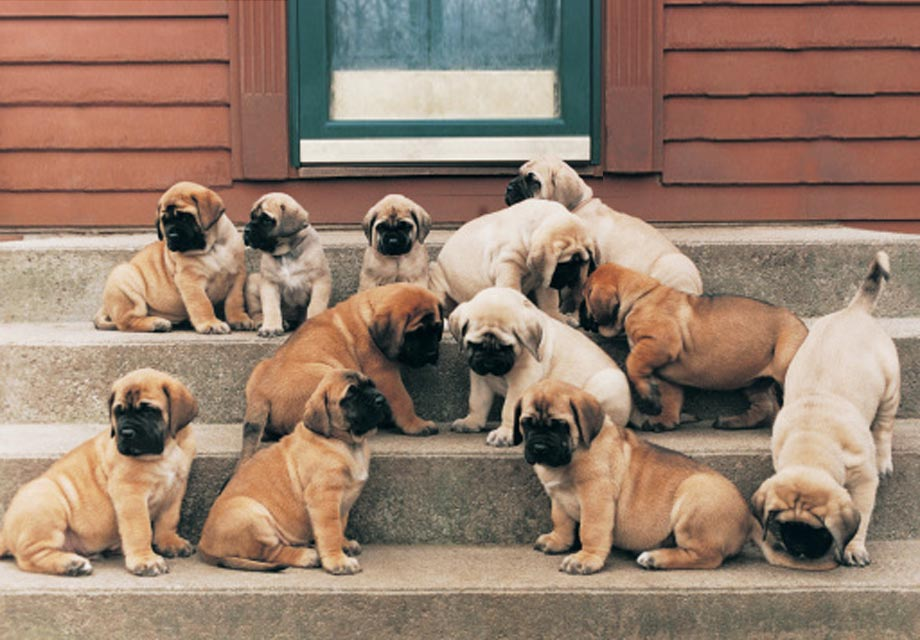mastiff: (747, 249, 901, 572), (512, 380, 755, 575), (0, 367, 200, 577), (195, 370, 392, 575), (577, 262, 809, 432), (235, 283, 445, 466), (445, 287, 632, 446), (504, 154, 704, 297), (91, 180, 252, 334), (428, 197, 597, 325), (241, 192, 332, 337), (357, 193, 433, 293)
